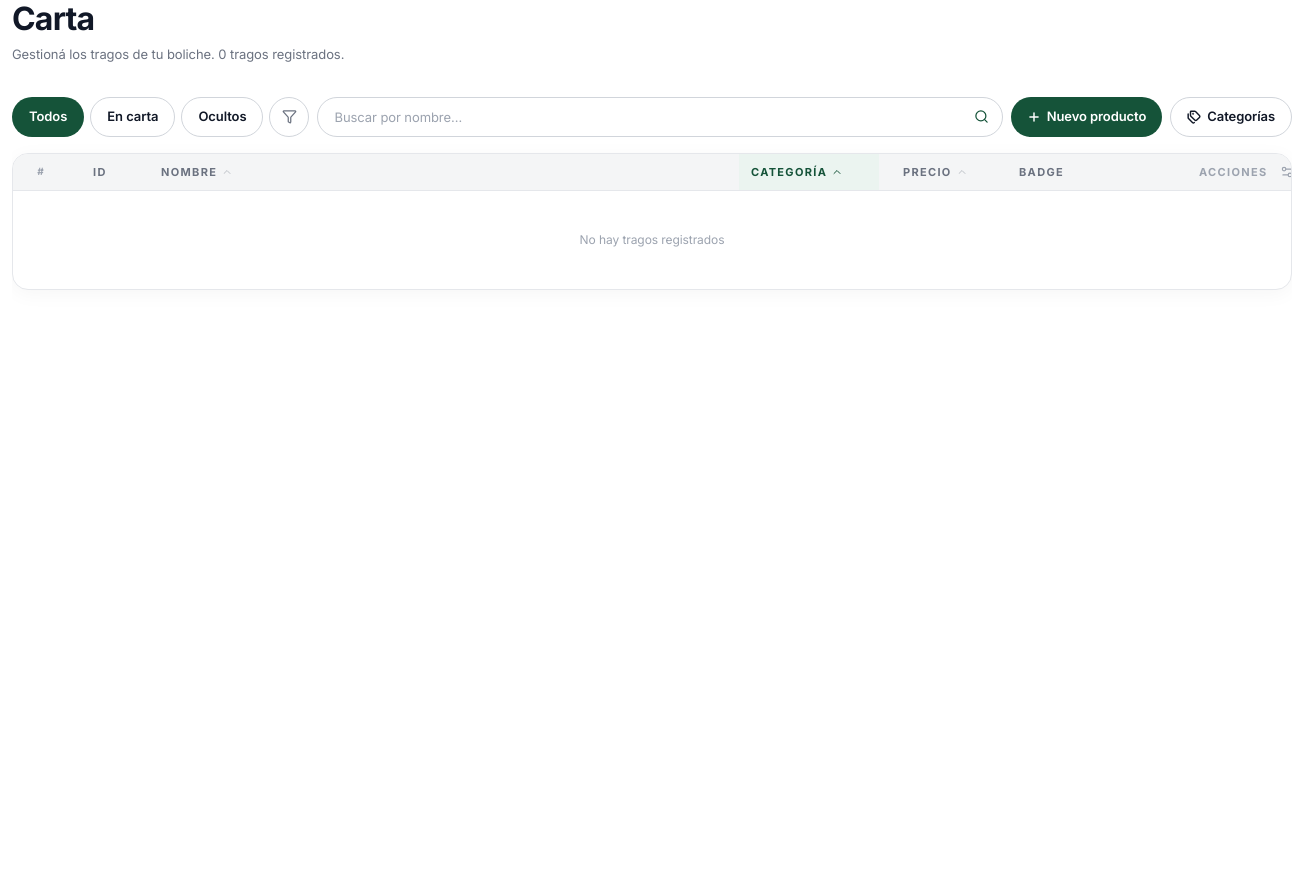
Test: CartaSection › crea un trago nuevo desde el panel lateral
The image size is (1304, 889).
Expected: the text "No hay tragos registrados" is shown, [580,232,724,247]
Click the button "Nuevo producto".
click(1086, 116)  # box [1011,96,1162,136]
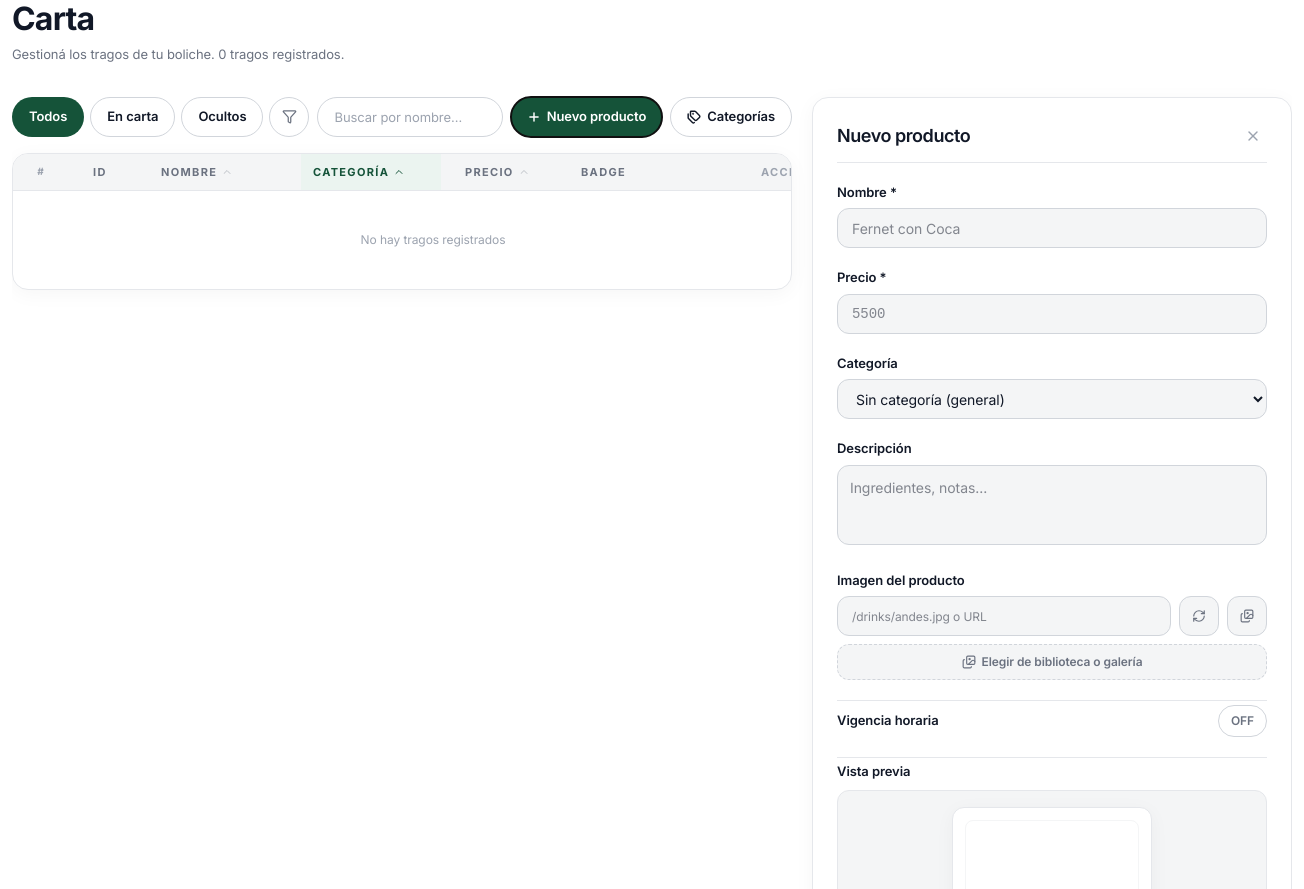
Type "Campari Spritz" into the field with placeholder "Fernet con Coca".
click(1052, 228); type("Campari Spritz")  # box [837,208,1267,248]
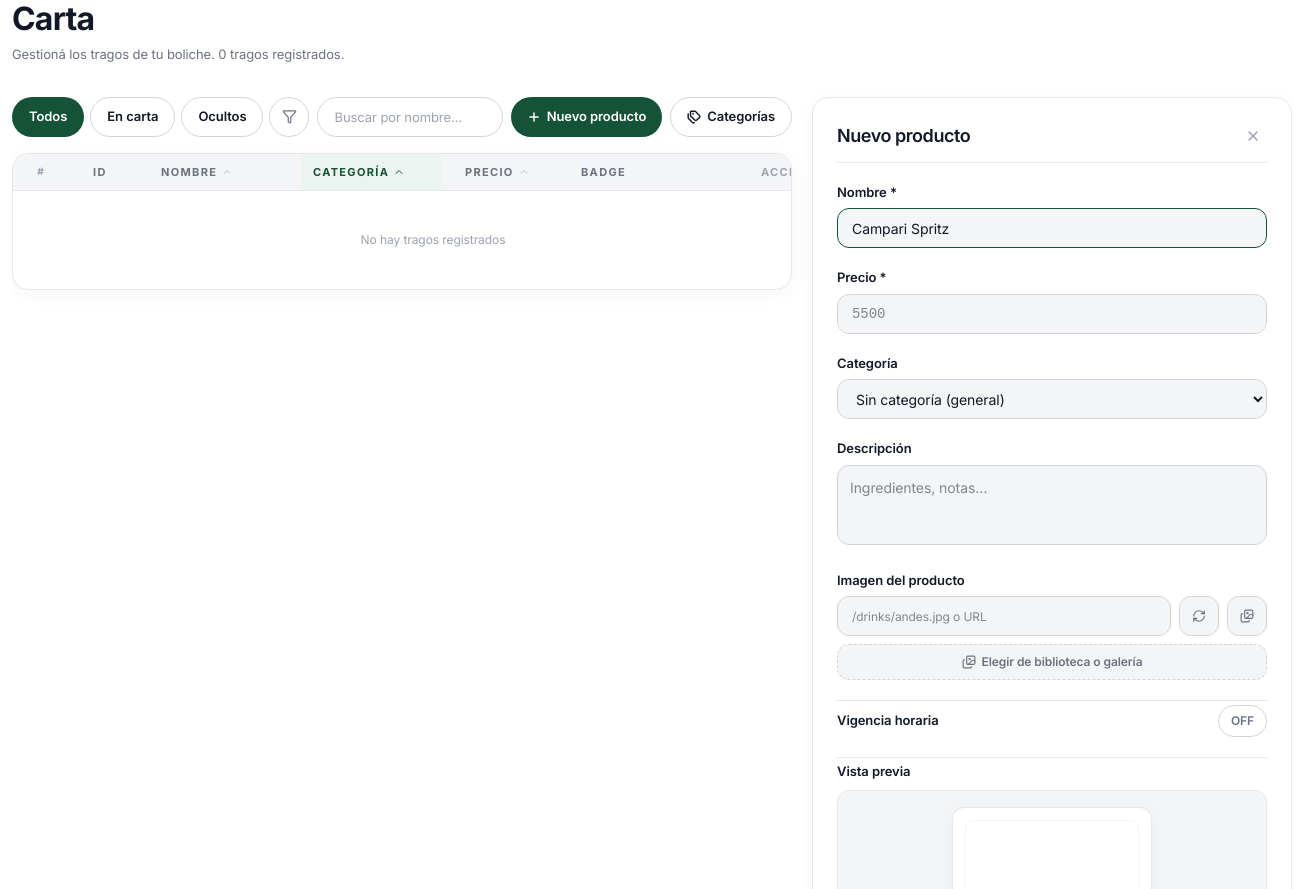
Type "4800" into the number field with placeholder "5500".
click(1052, 314); type("4800")  # box [837,294,1267,334]
(page scrolled)
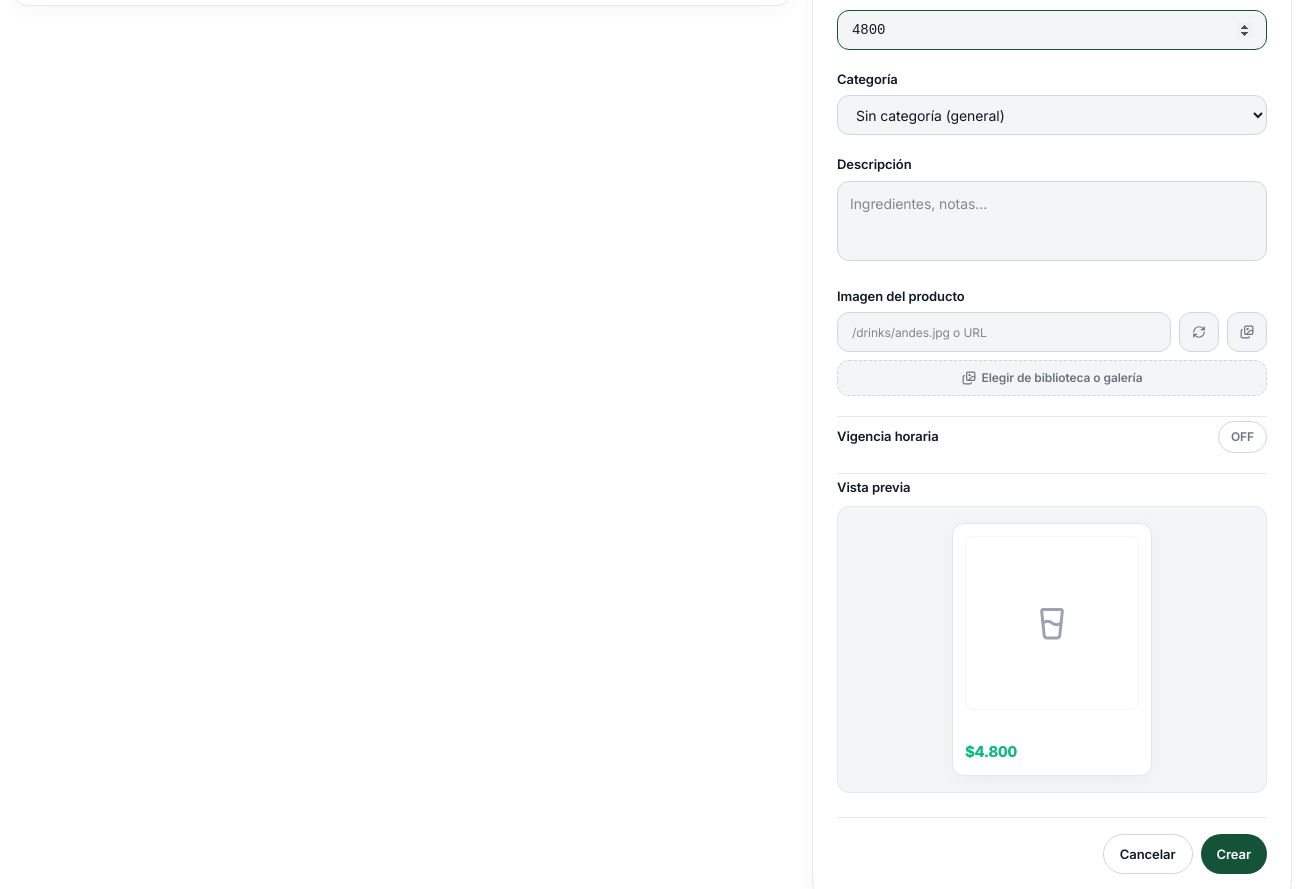
Click the button "Crear".
click(1234, 854)  # box [1200,834,1267,874]
(page scrolled)
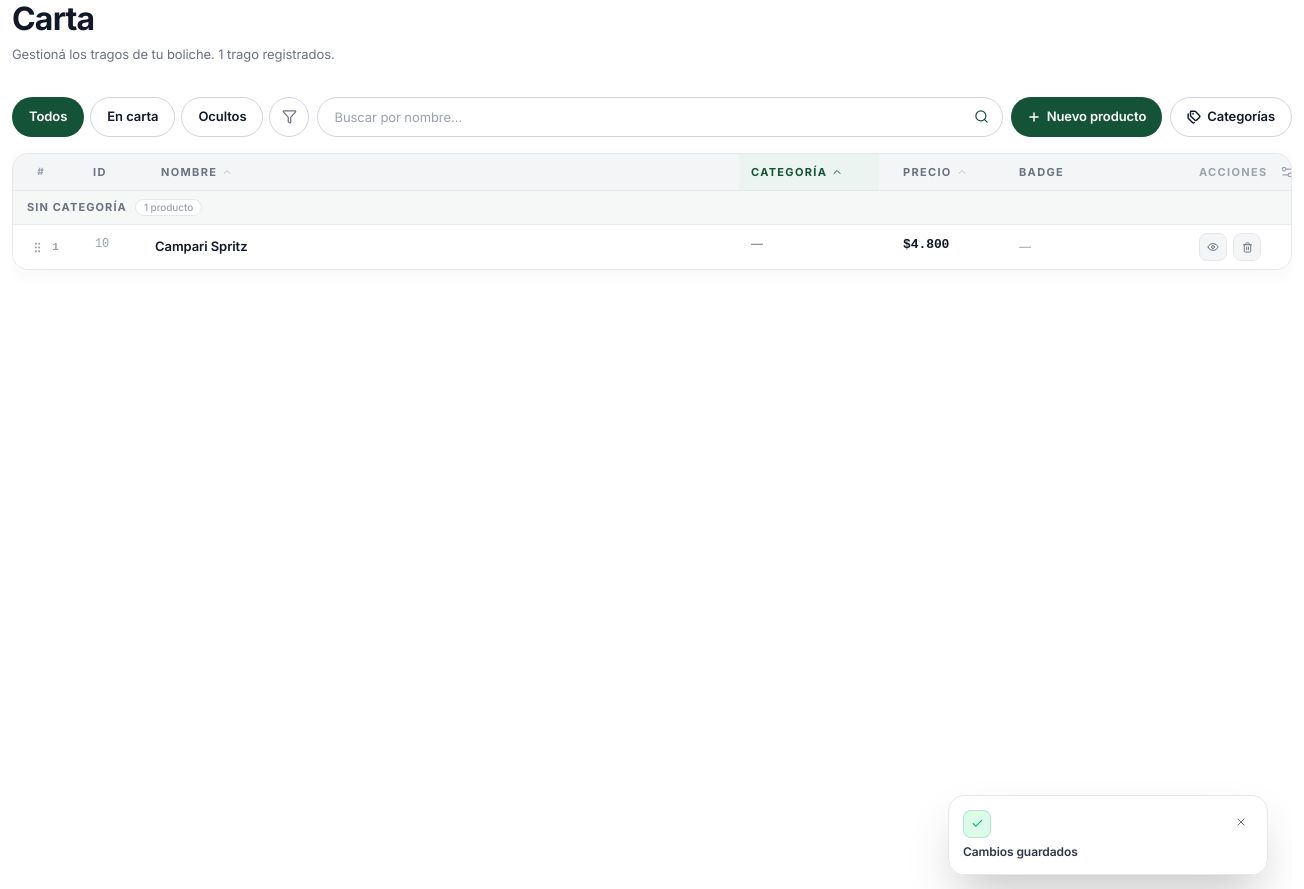
Expected: the text "Campari Spritz" is shown, [155,238,247,254]
Expected: the text "Cambios guardados" is shown, [963,844,1078,858]
